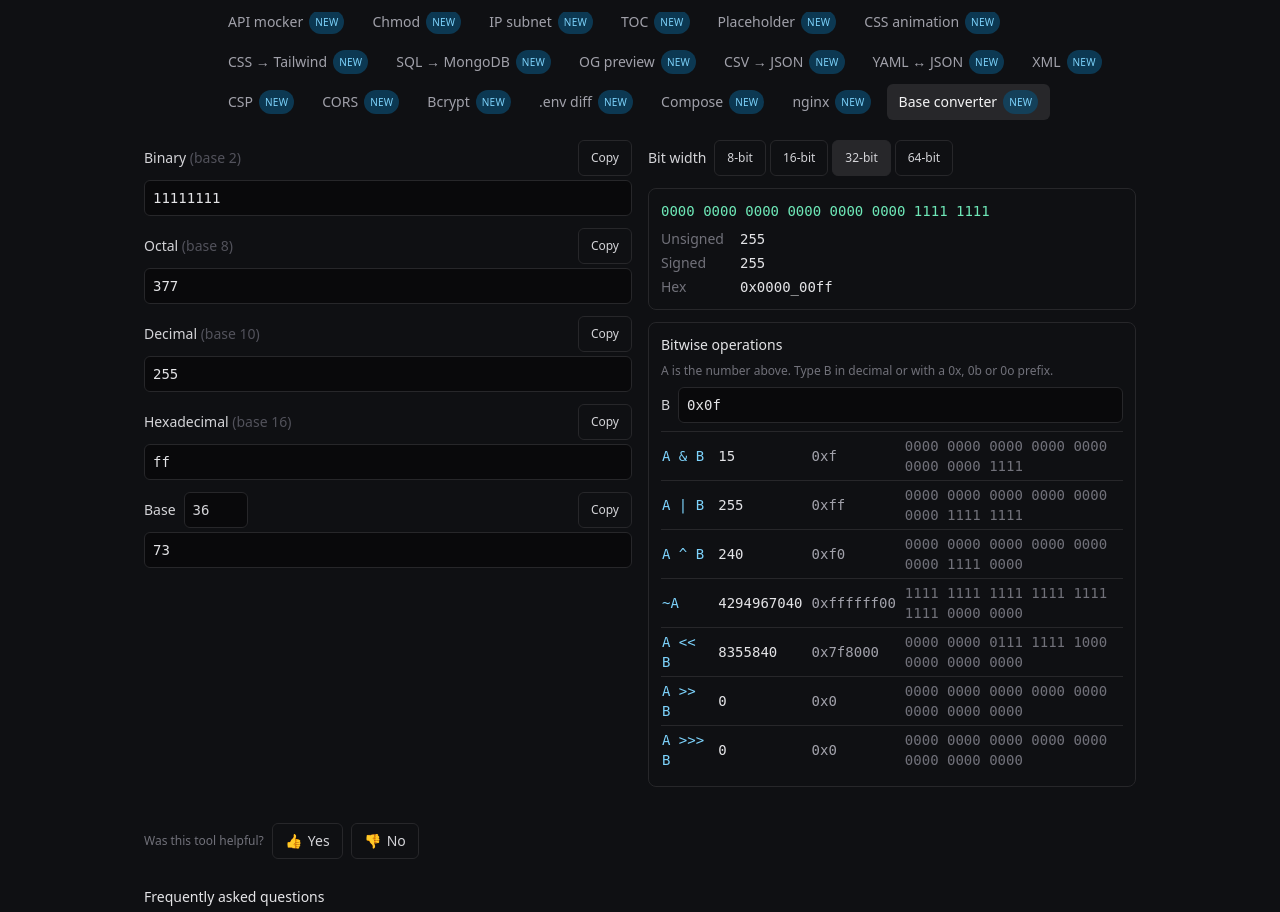
Test case: BaseConverterPage › updates every base from one field
The width and height of the screenshot is (1280, 912).
(page scrolled)
Replace the text in the field with test id "base-hex" with "0x1F" at (388, 462), box [144,444,632,480]
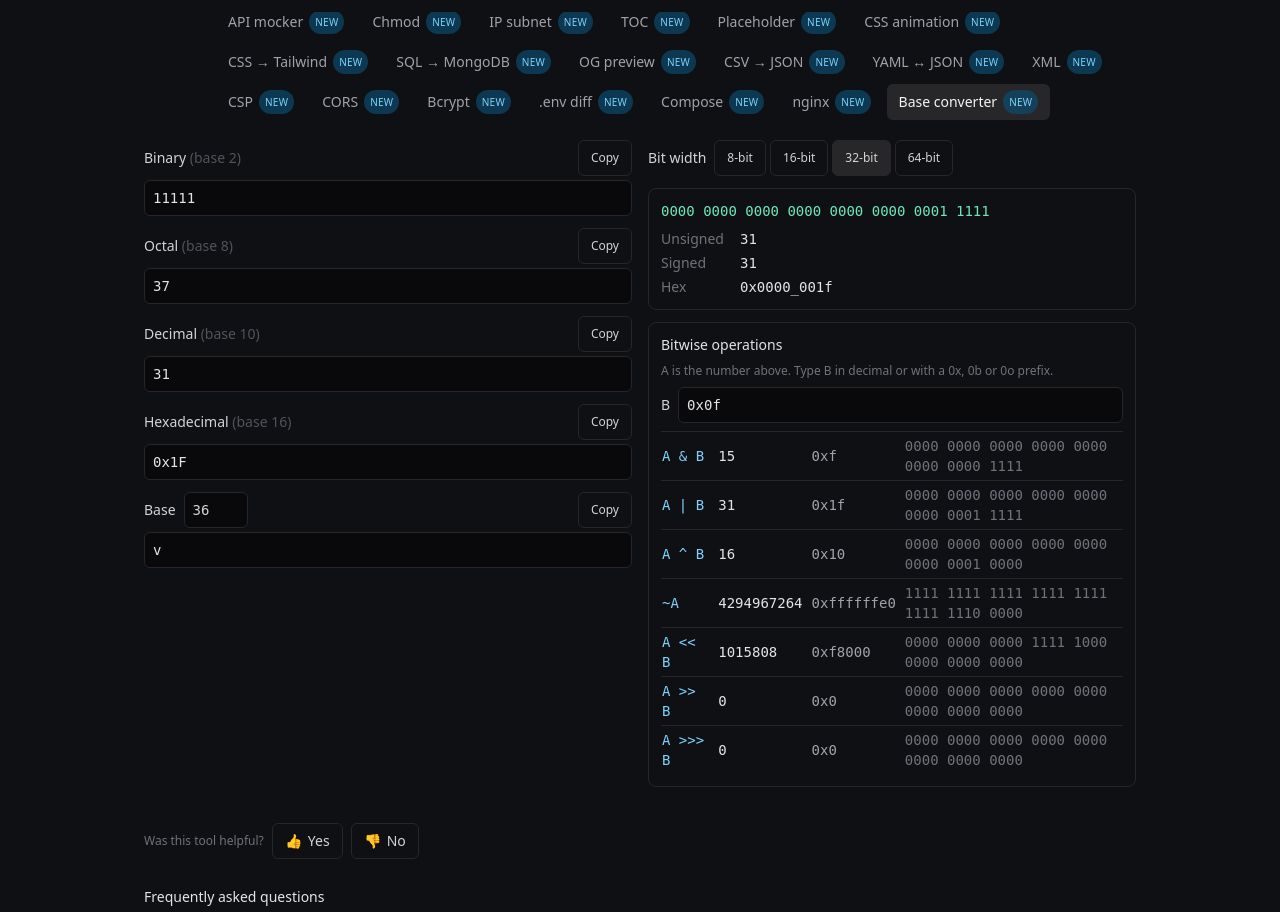
Expected: the field with test id "base-dec" holds "31", [144,356,632,392]
Expected: the field with test id "base-bin" holds "11111"
Expected: the field with test id "base-oct" holds "37", [144,268,632,304]
Replace the text in the field with test id "base-bin" with "102" at (388, 198), box [144,180,632,216]
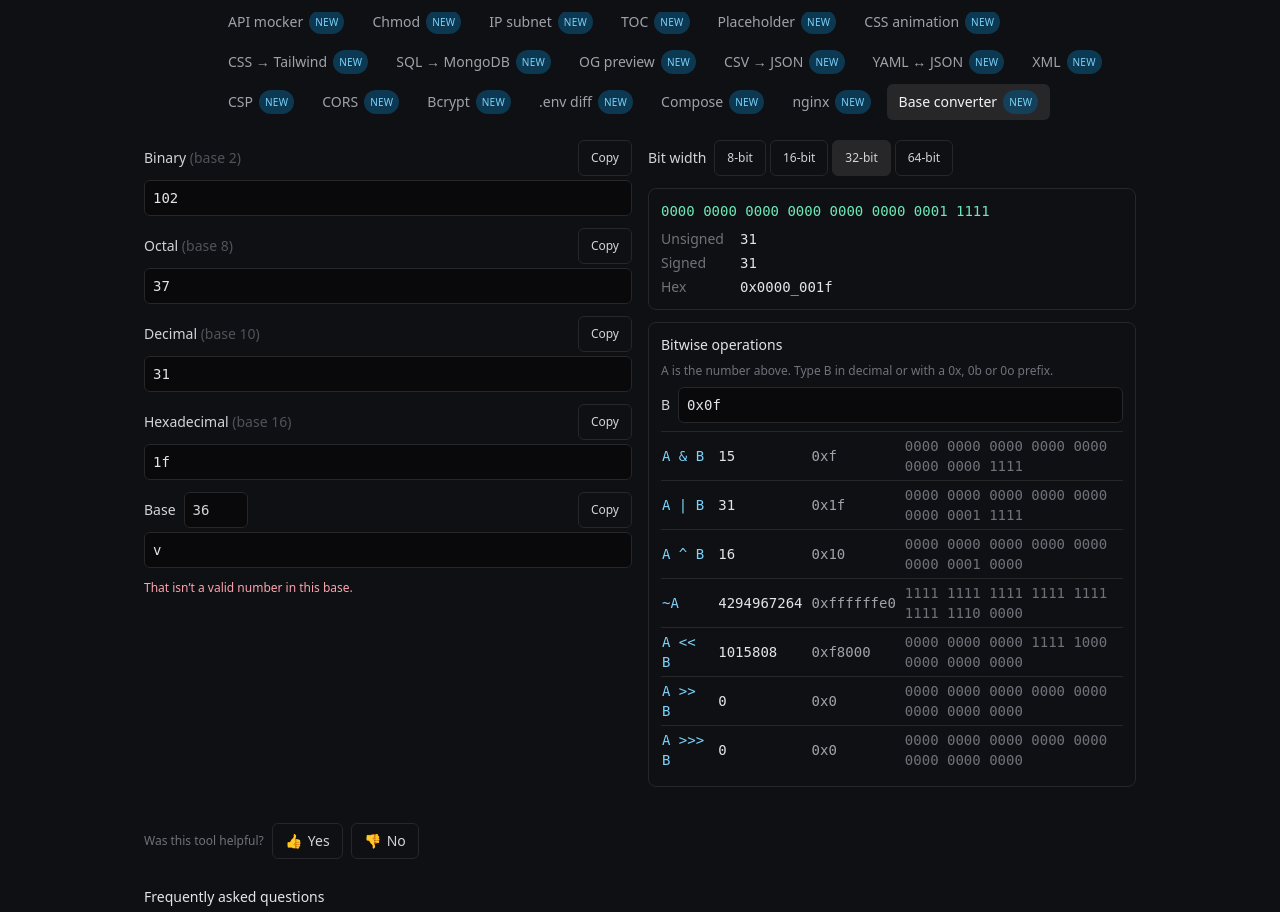
Expected: the message shows "valid number", [144,579,353,596]
